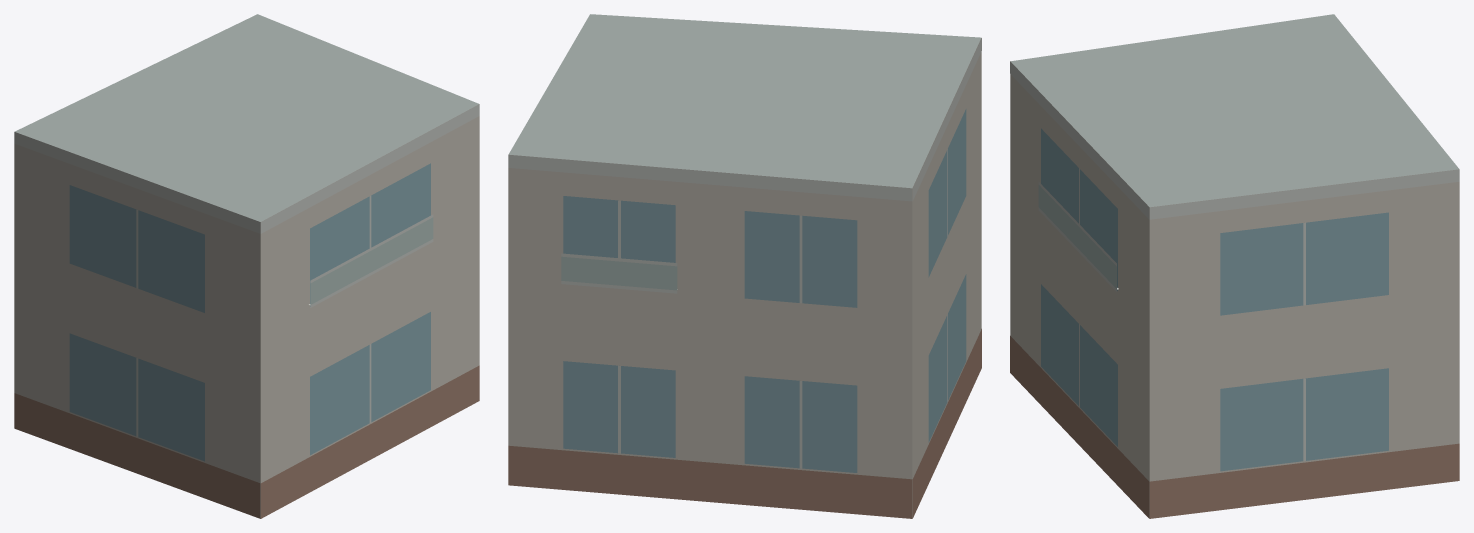
Rendered from survey-upis-33019175.glb.
3 views of the same model, side by side, from view 1: azimuth 30°, elevation 25°; view 2: azimuth 150°, elevation 25°; view 3: azimuth 270°, elevation 25° (orthographic). The views are drawn at different scales.
Parts seen in each view (by area): view 1: survey-upis-33019175.tmp; view 2: survey-upis-33019175.tmp; view 3: survey-upis-33019175.tmp.
Part boxes in pixels (bbox=[...]): survey-upis-33019175.tmp: bbox=[14, 14, 479, 518]; survey-upis-33019175.tmp: bbox=[508, 14, 981, 518]; survey-upis-33019175.tmp: bbox=[1010, 14, 1459, 518].
Bounding box in the file's own units: 8.13 × 6.1 × 7.99.
